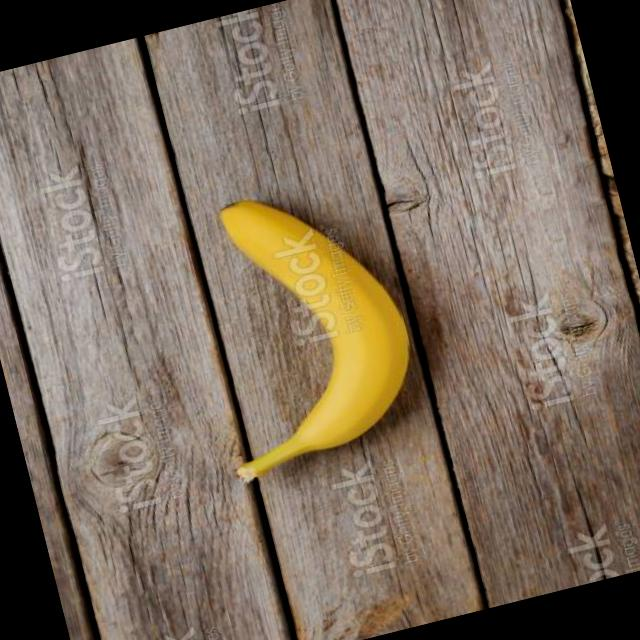banana: (163, 164, 441, 488)
